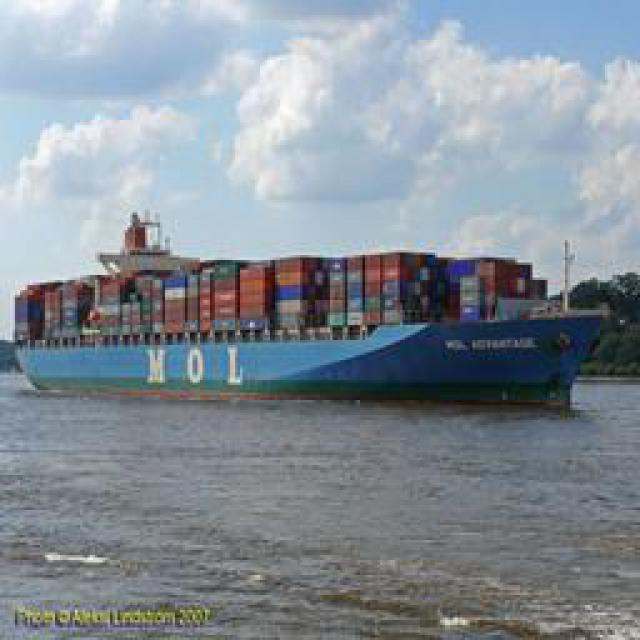Ship: (11, 226, 614, 404)
